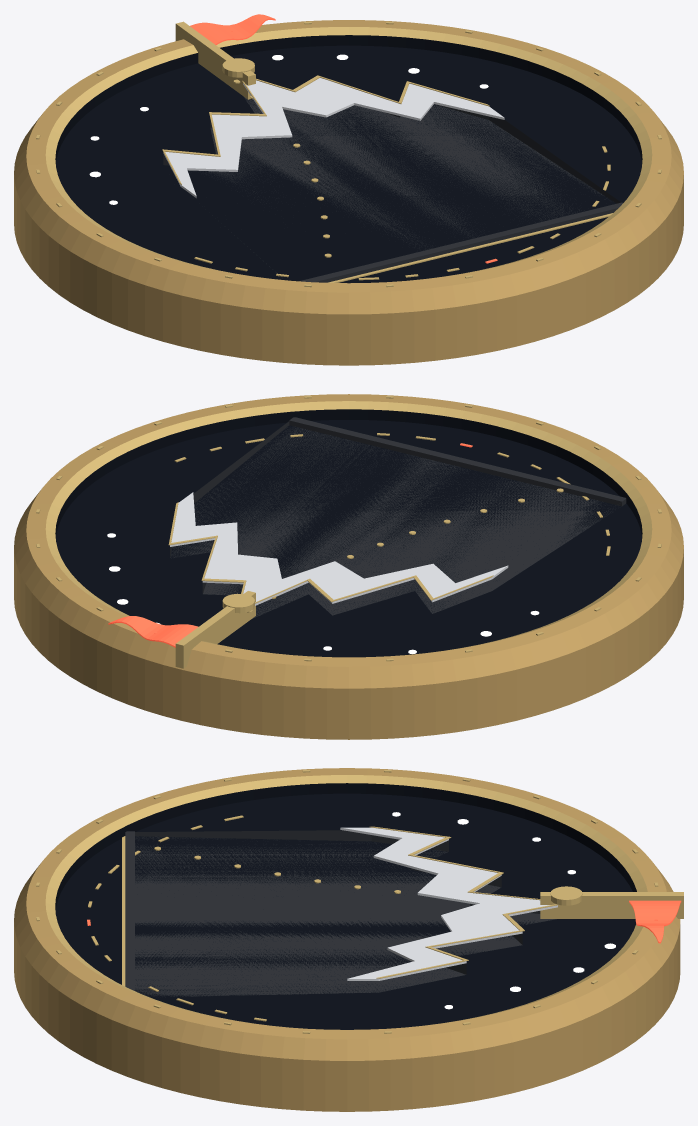
The model's file is final_exam.glb.
3 renders of one model, top to bottom at view 1: azimuth 30°, elevation 25°; view 2: azimuth 150°, elevation 25°; view 3: azimuth 270°, elevation 25°, orthographic.
Parts seen in each view (by area): view 1: FE_Sky, FE_Brass, FE_Steel, FE_Gold, FE_Chrome, FE_Red; view 2: FE_Sky, FE_Brass, FE_Steel, FE_Gold, FE_Chrome, FE_Red; view 3: FE_Sky, FE_Brass, FE_Steel, FE_Gold, FE_Chrome, FE_Red.
Boxes of the visible parts, bbox=[...] form: FE_Sky: bbox=[55, 35, 642, 283]; FE_Brass: bbox=[14, 20, 683, 365]; FE_Steel: bbox=[163, 96, 622, 282]; FE_Gold: bbox=[36, 21, 661, 287]; FE_Chrome: bbox=[163, 78, 504, 198]; FE_Red: bbox=[190, 14, 497, 263]; FE_Sky: bbox=[55, 409, 642, 657]; FE_Brass: bbox=[14, 394, 683, 739]; FE_Steel: bbox=[170, 417, 626, 618]; FE_Gold: bbox=[36, 396, 661, 668]; FE_Chrome: bbox=[170, 492, 508, 605]; FE_Red: bbox=[108, 443, 472, 647]; FE_Sky: bbox=[55, 783, 636, 1029]; FE_Brass: bbox=[14, 768, 680, 1111]; FE_Steel: bbox=[125, 830, 556, 997]; FE_Gold: bbox=[36, 769, 683, 1033]; FE_Chrome: bbox=[340, 827, 557, 980]; FE_Red: bbox=[87, 900, 681, 943].
Bounding box in the file's own units: 0.0392 × 0.00505 × 0.0394.
